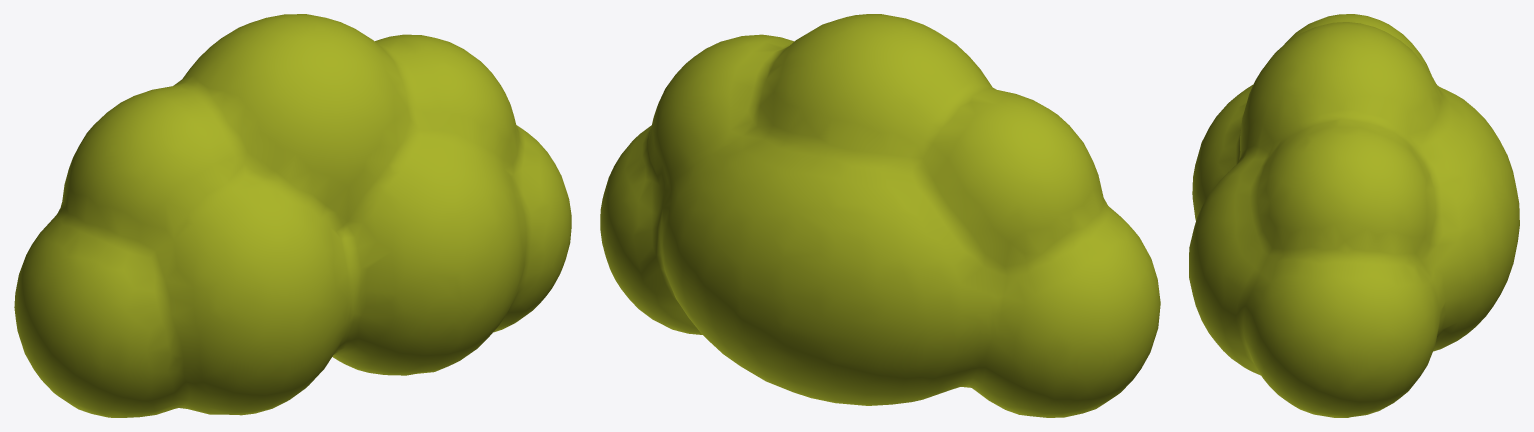
The model's file is lime_cloud_bush.glb.
3 renders of one model, left to right at view 1: azimuth 30°, elevation 25°; view 2: azimuth 150°, elevation 25°; view 3: azimuth 270°, elevation 25°, orthographic. The views are drawn at different scales.
Parts seen in each view (by area): view 1: cloud_bush; view 2: cloud_bush; view 3: cloud_bush.
Boxes of the visible parts, bbox=[...] form: cloud_bush: bbox=[14, 14, 571, 417]; cloud_bush: bbox=[600, 14, 1160, 417]; cloud_bush: bbox=[1189, 14, 1519, 417].
Size of the model in its own units: 1.09 by 0.65 by 0.6686.
